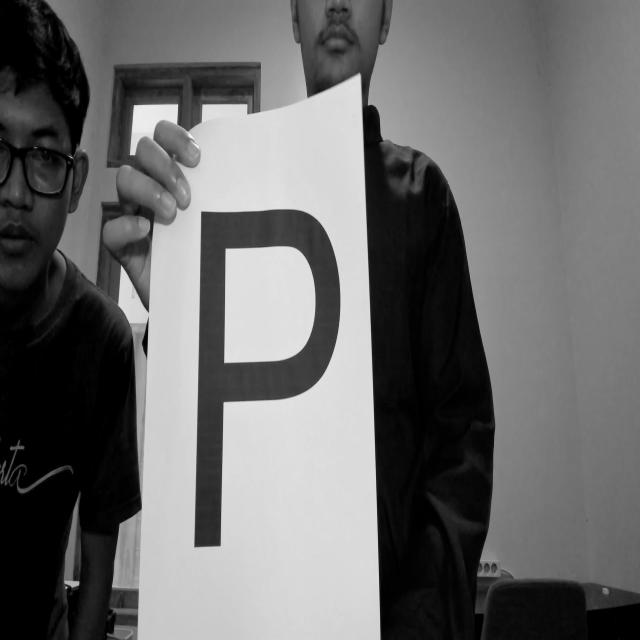p: (184, 203, 365, 585)
